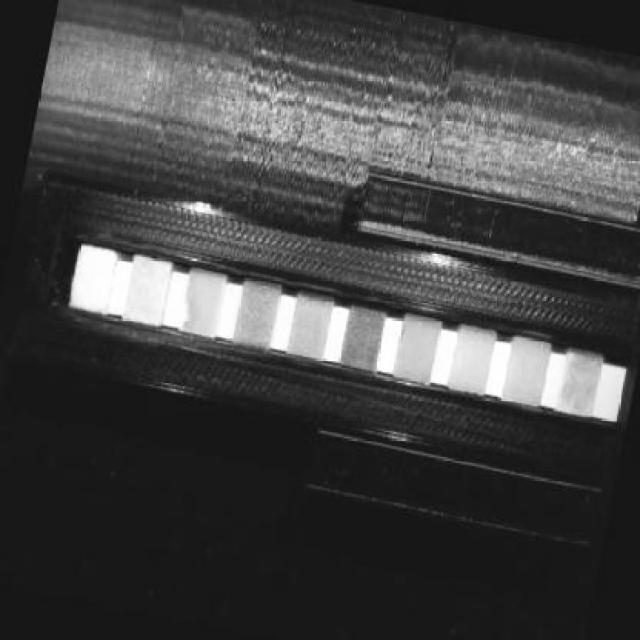Bilirubin: (512, 344, 541, 398)
Blood: (349, 314, 376, 367)
Glucose: (568, 354, 595, 412)
Ketone: (458, 334, 485, 388)
Leukocytes: (78, 254, 106, 305)
Nitrite: (134, 264, 162, 318)
Protein: (242, 286, 272, 344)
SpGravity: (404, 322, 431, 379)
Urobilinogen: (188, 276, 218, 332)
background: (0, 0, 640, 640)
pH: (296, 302, 324, 354)
strip: (70, 251, 626, 424)
